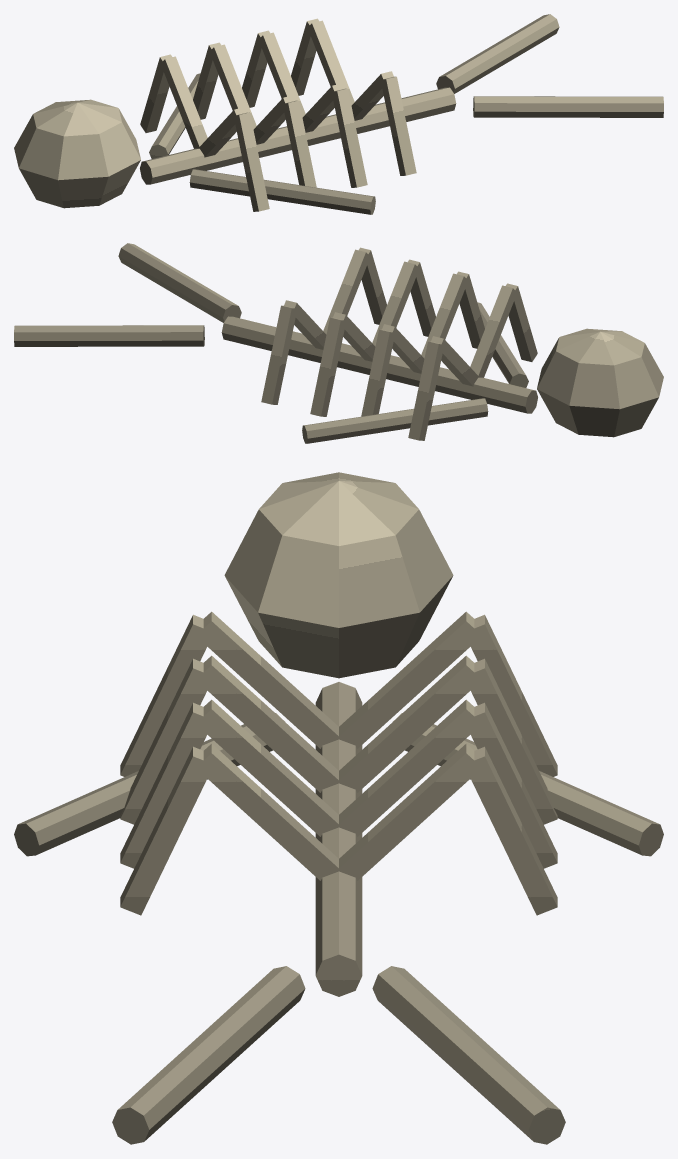
File: bones.glb
3 views of the same model, one above another, from view 1: azimuth 30°, elevation 25°; view 2: azimuth 150°, elevation 25°; view 3: azimuth 270°, elevation 25° (orthographic). The views are drawn at different scales.
Bounding box in the file's own units: 1.21 × 0.2 × 0.6242.
Materials: 1 (1 with a texture image).
